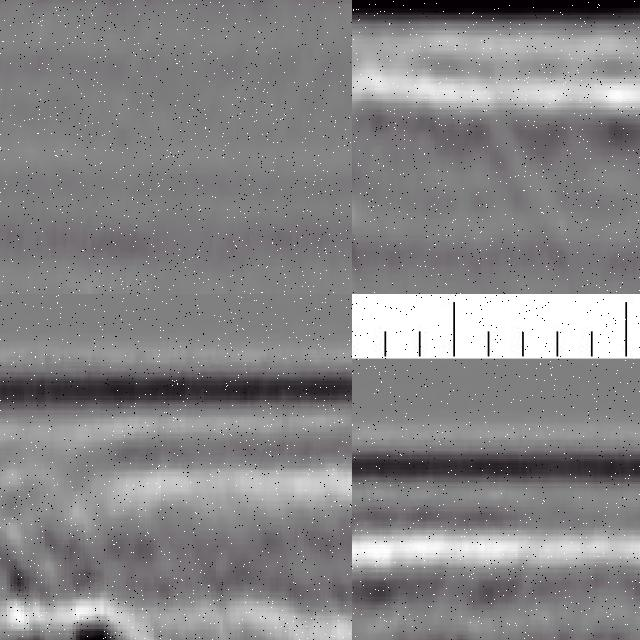loose: (1, 587, 193, 640)
